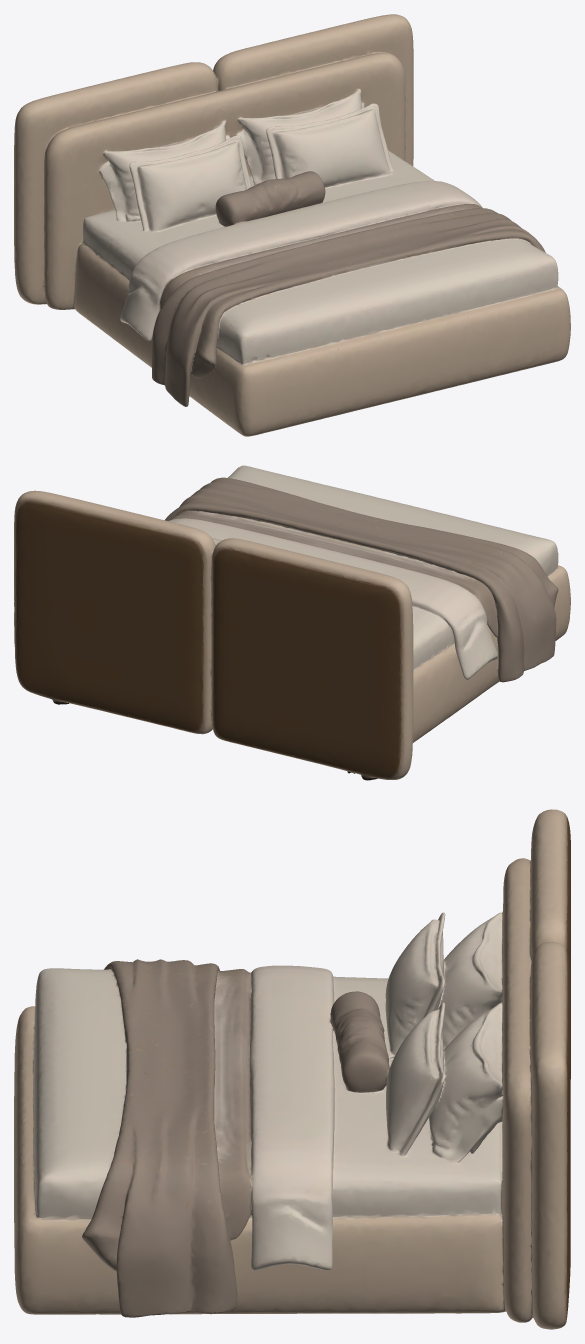
The model's file is Contemporary Upholstered Platform Bed with Curved Headboard Panels [6D9nGo].glb.
3 renders of one model, top to bottom at view 1: azimuth 30°, elevation 25°; view 2: azimuth 150°, elevation 25°; view 3: azimuth 270°, elevation 25°, orthographic. The views are drawn at different scales.
Visible parts, largest first — view 1: world; view 2: world; view 3: world.
Part boxes in pixels (x1,y1,x2,y2): world: (14,14,570,436); world: (14,465,570,780); world: (14,809,570,1329).
Bounding box in the file's own units: 1 × 0.4947 × 0.8854.
1 material, 1 textured.
